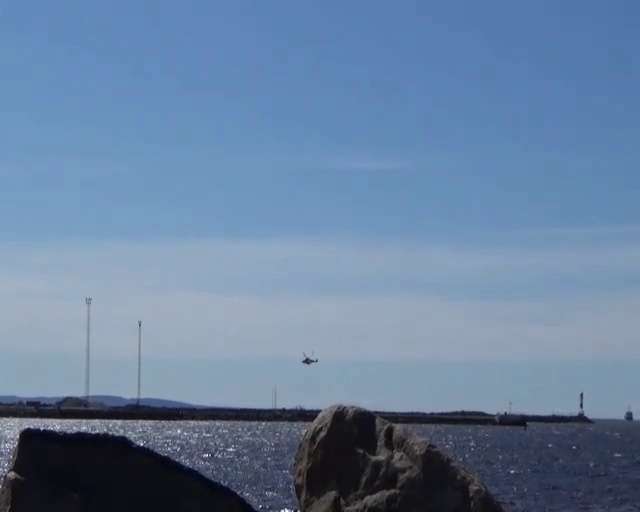HELICOPTER: (302, 350, 318, 365)
